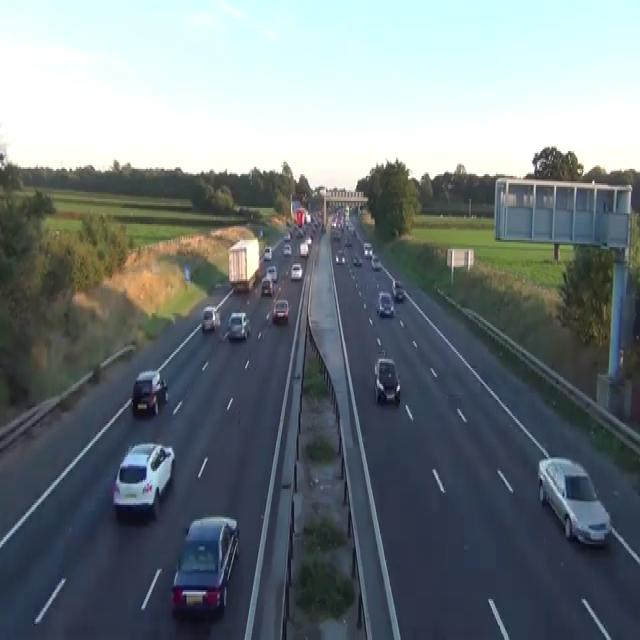Car: (170, 514, 239, 617), (537, 455, 612, 546), (112, 441, 175, 515), (132, 370, 168, 416), (373, 358, 400, 403), (170, 617, 223, 638), (227, 311, 251, 340), (376, 290, 394, 316), (201, 306, 220, 330), (272, 298, 289, 324), (391, 279, 404, 301), (261, 276, 274, 295), (265, 265, 277, 283), (290, 263, 302, 279), (371, 254, 381, 270), (299, 242, 309, 258), (335, 249, 345, 263), (363, 242, 373, 256), (263, 246, 272, 260), (184, 263, 191, 281), (282, 244, 291, 256), (353, 254, 362, 265), (331, 228, 340, 238), (0, 151, 5, 169), (347, 222, 355, 233), (349, 203, 357, 213), (344, 237, 352, 246), (283, 231, 291, 240), (296, 228, 303, 238), (305, 237, 312, 246), (320, 224, 326, 233), (306, 214, 311, 222), (345, 217, 349, 226), (259, 230, 263, 238)
Truck: (228, 236, 259, 292), (295, 208, 305, 226)
